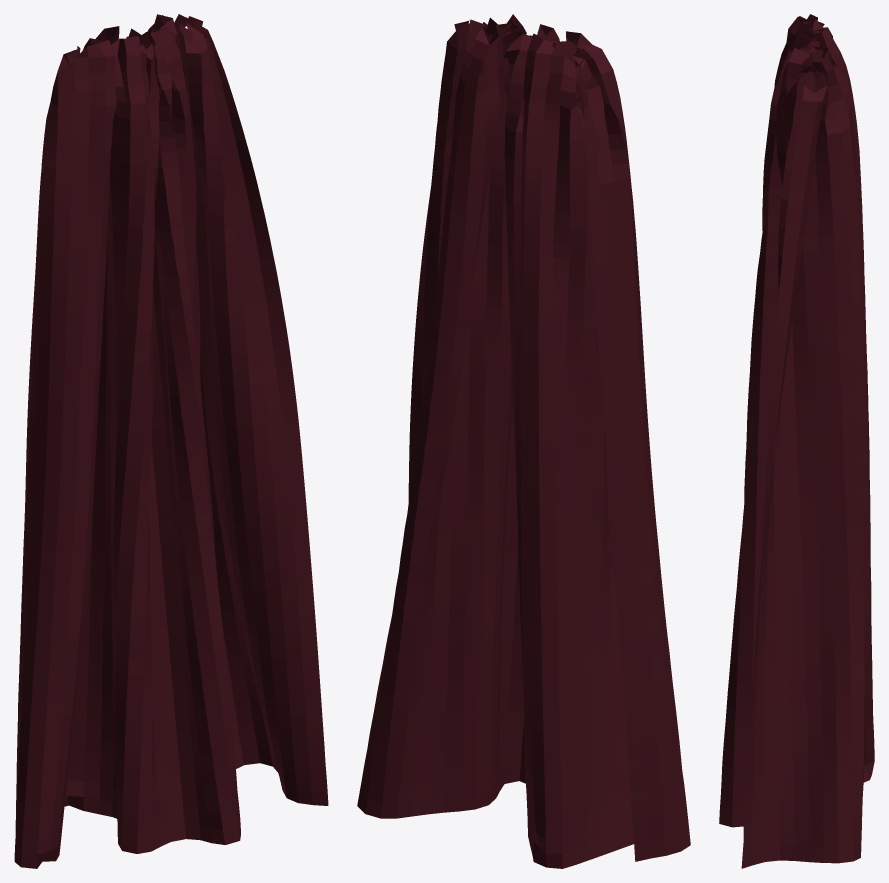
The model's file is perde.fbx.
The picture shows the model from 3 angles, left to right: view 1: azimuth 30°, elevation 25°; view 2: azimuth 150°, elevation 25°; view 3: azimuth 270°, elevation 25°; orthographic projection. The views are drawn at different scales.
Parts seen in each view (by area): view 1: Grid; view 2: Grid; view 3: Grid.
Boxes of the visible parts, x1,y1,x2,y2 form: Grid: [14, 14, 328, 868]; Grid: [357, 14, 690, 868]; Grid: [719, 14, 874, 868].
Size of the model in its own units: 77.57 by 202 by 37.06.
